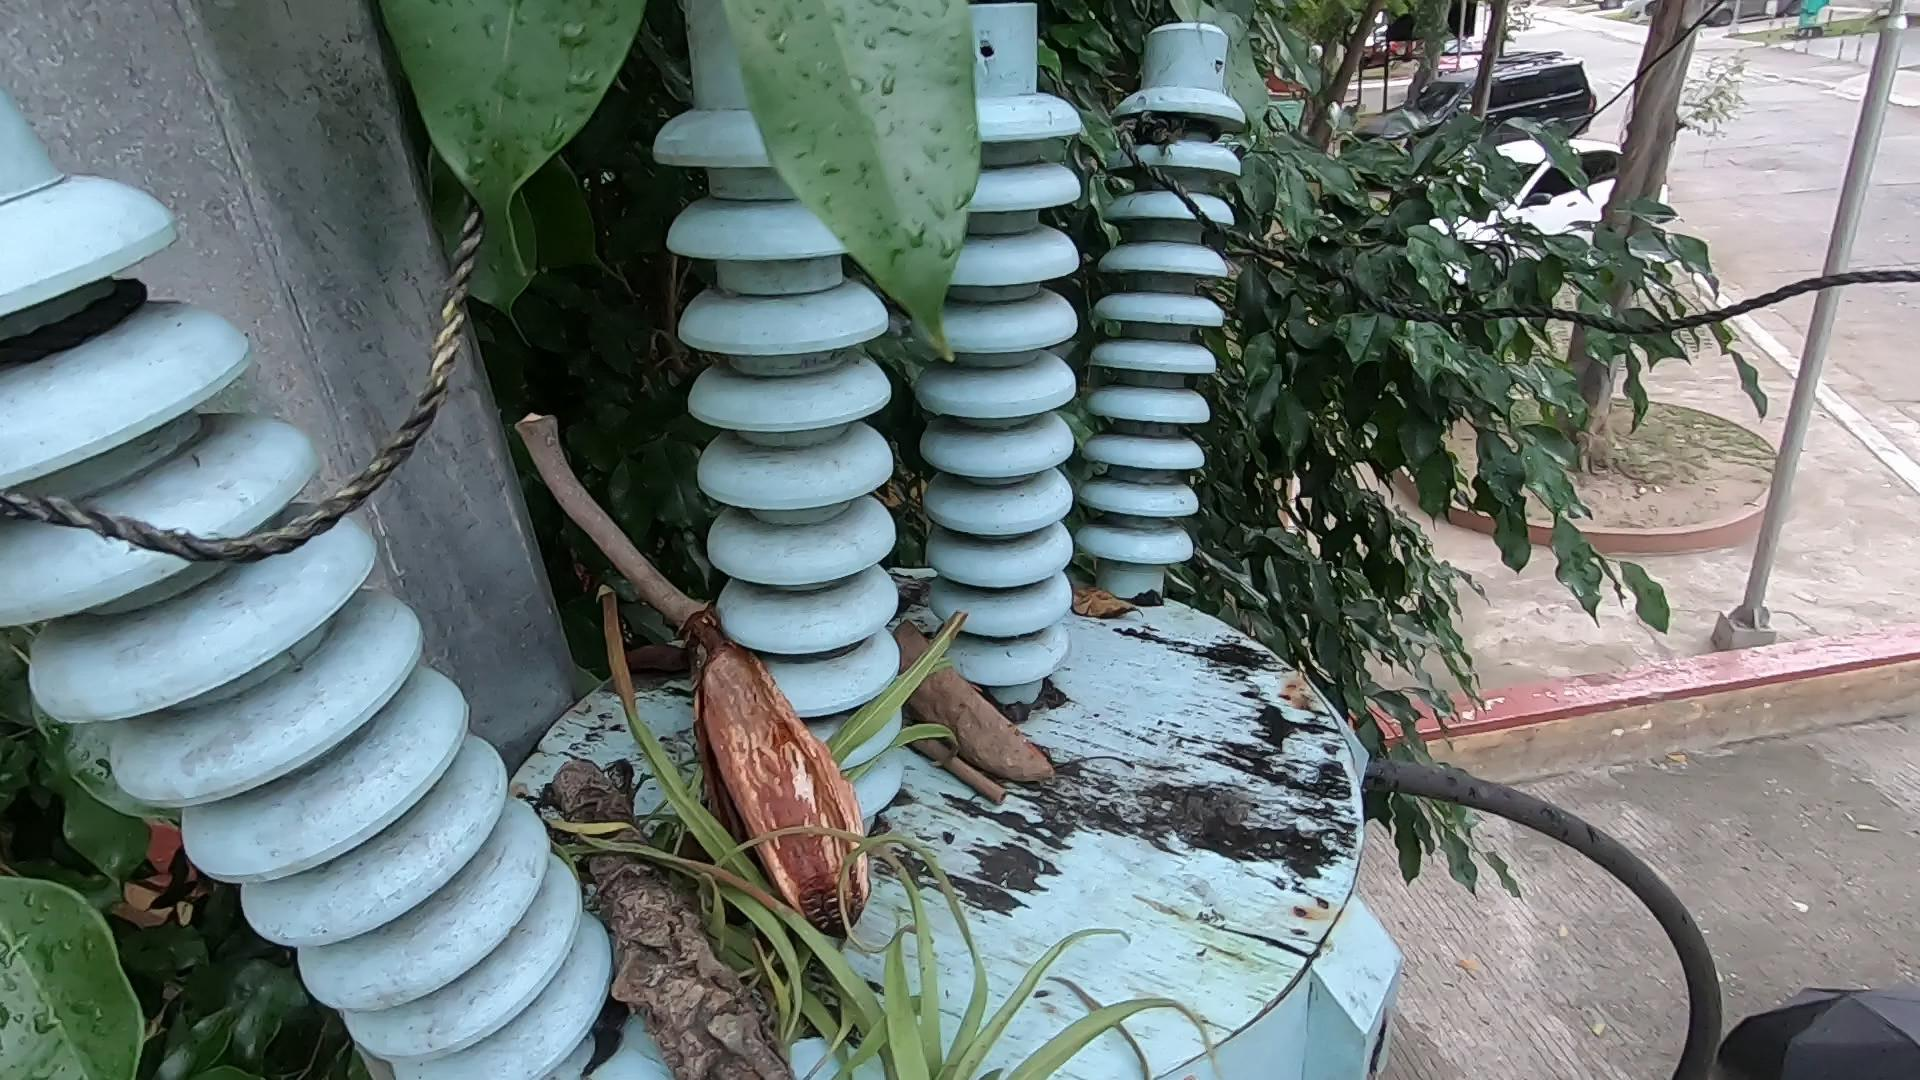branch with leaves: (510, 728, 1116, 1080)
leaf: (1054, 567, 1216, 663)
mahogany fruit: (687, 632, 989, 986), (893, 618, 1047, 804)
tree branch: (501, 382, 705, 646), (895, 723, 1031, 819)
